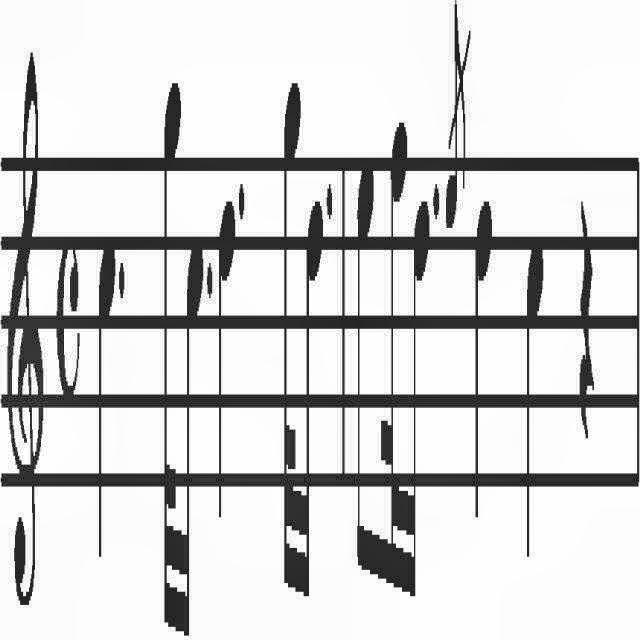Bass-clef: (6, 31, 46, 629)
Eighth-note: (354, 158, 374, 594)
Quarter-note: (218, 193, 238, 535), (96, 230, 116, 568), (524, 237, 544, 568), (475, 195, 493, 537)
Quarter-rest: (577, 193, 595, 443)
Sixteenth-note: (403, 188, 432, 620), (296, 197, 324, 599), (179, 235, 205, 637)
